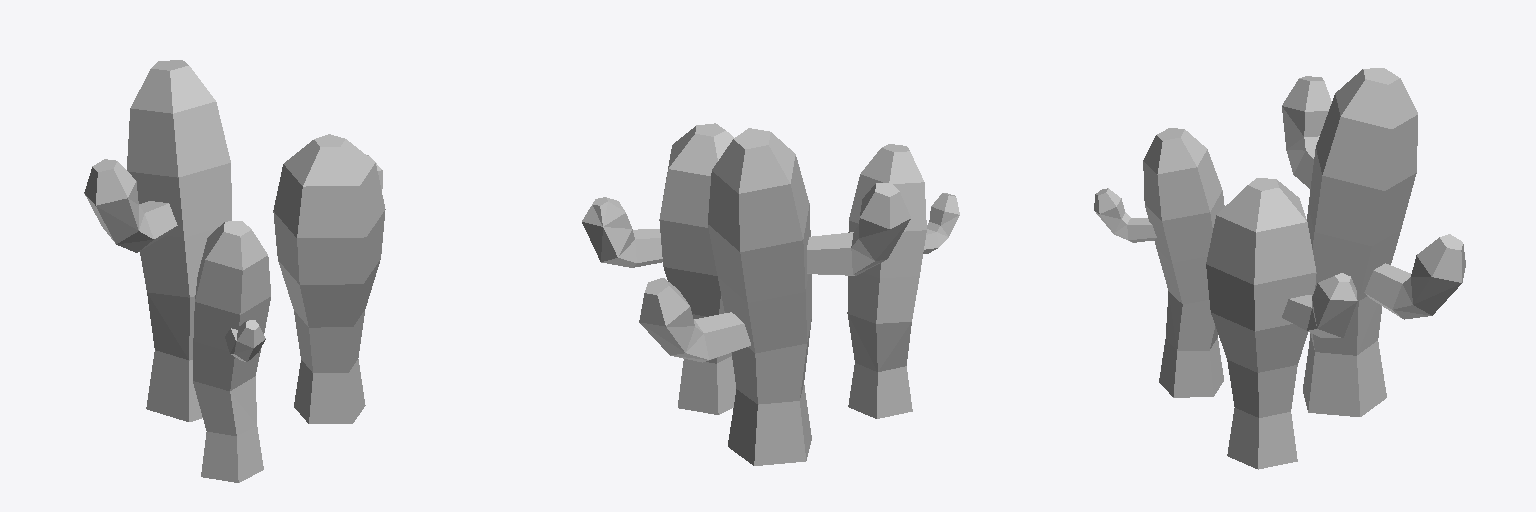
Rendered from cactus.obj.
3 views of the same model, side by side, from view 1: azimuth 30°, elevation 25°; view 2: azimuth 150°, elevation 25°; view 3: azimuth 270°, elevation 25° (orthographic).
Parts seen in each view (by area): view 1: Cactus_Untitled.002; view 2: Cactus_Untitled.002; view 3: Cactus_Untitled.002.
Part boxes in pixels (x1,y1,x2,y2): Cactus_Untitled.002: (84, 60, 385, 482); Cactus_Untitled.002: (582, 123, 959, 465); Cactus_Untitled.002: (1094, 68, 1465, 469).
Bounding box in the file's own units: 2.62 × 2.73 × 2.78.